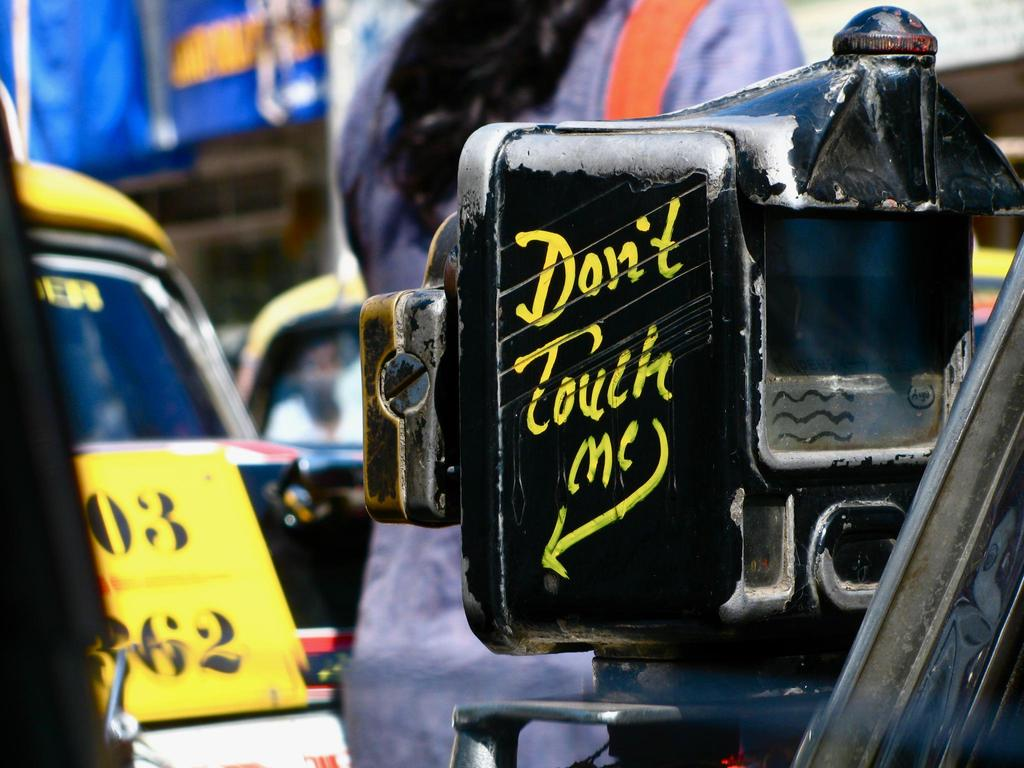Car: (8, 148, 364, 767), (234, 272, 375, 620)
